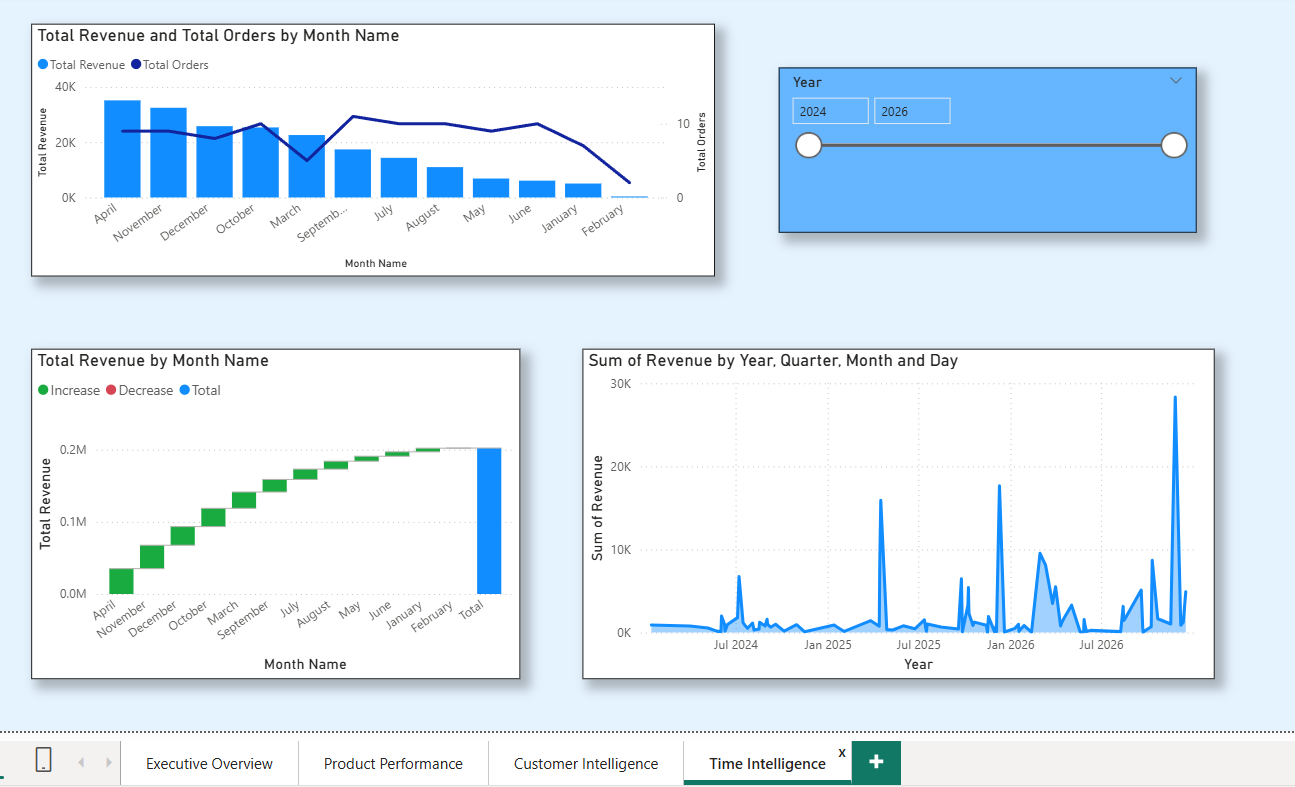

This screenshot's page, from the dashboard's own definition file:
{"tool":"powerbi","page":{"name":"Time Intelligence","canvas":[1280,720],"ordinal":3},"visuals":[{"type":"lineClusteredColumnComboChart","fields":{"Category":["clean_sales_analytics_processed.Month Name"],"Y":["clean_sales_analytics_processed.Total Revenue"],"Y2":["clean_sales_analytics_processed.Total Orders"]},"box":[35.7,28.6,668.6,247.1],"z":0},{"type":"areaChart","fields":{"Category":["clean_sales_analytics_processed.Order Date.Variation.Date Hierarchy.Year","clean_sales_analytics_processed.Order Date.Variation.Date Hierarchy.Quarter","clean_sales_analytics_processed.Order Date.Variation.Date Hierarchy.Month","clean_sales_analytics_processed.Order Date.Variation.Date Hierarchy.Day"],"Y":["Sum(clean_sales_analytics_processed.Revenue)"]},"box":[574.3,345.7,618.6,322.9],"z":1000},{"type":"waterfallChart","fields":{"Category":["clean_sales_analytics_processed.Month Name"],"Y":["clean_sales_analytics_processed.Total Revenue"]},"box":[35.7,345.7,478.6,322.9],"z":2000},{"type":"slicer","fields":{"Values":["clean_sales_analytics_processed.Year"]},"box":[767.1,71.4,408.6,161.4],"z":3000}]}

Visuals, with their boxes in screenshot pixels (x1, y1, x2, y2):
lineClusteredColumnComboChart - clean_sales_analytics_processed.Month Name x clean_sales_analytics_processed.Total Revenue: (27, 16, 718, 272)
areaChart - clean_sales_analytics_processed.Order Date.Variation.Date Hierarchy.Year x clean_sales_analytics_processed.Order Date.Variation.Date Hierarchy.Quarter: (584, 344, 1224, 678)
waterfallChart - clean_sales_analytics_processed.Month Name x clean_sales_analytics_processed.Total Revenue: (27, 344, 522, 678)
slicer - clean_sales_analytics_processed.Year: (783, 60, 1206, 227)
